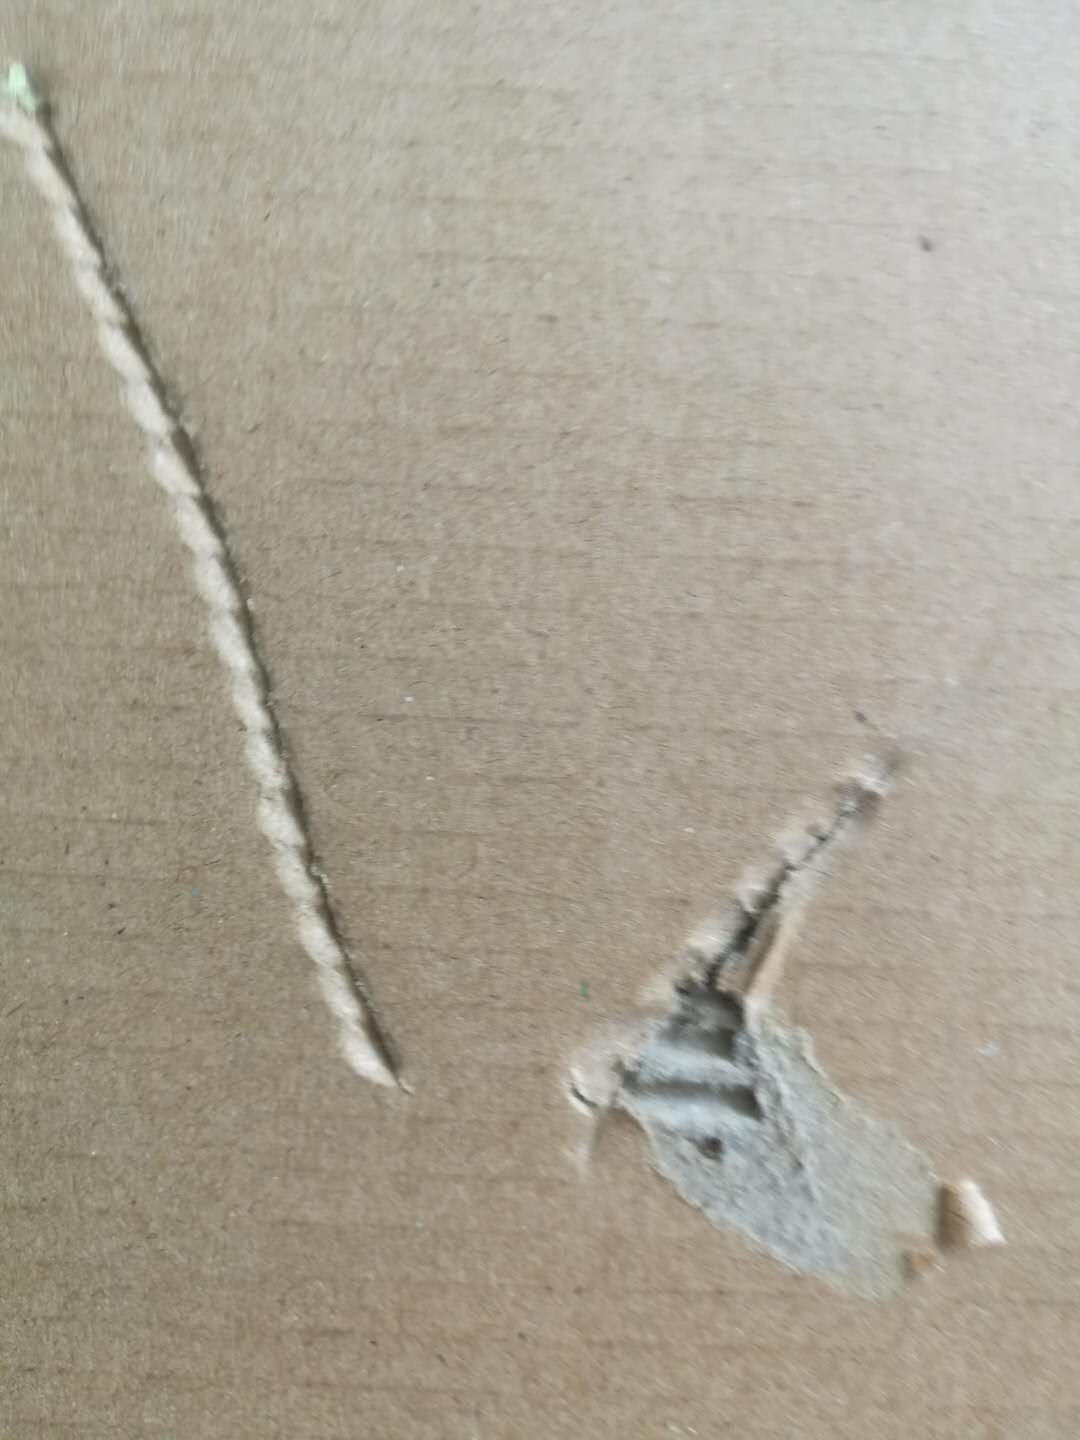defect: (2, 45, 454, 1118), (526, 655, 1043, 1347)
